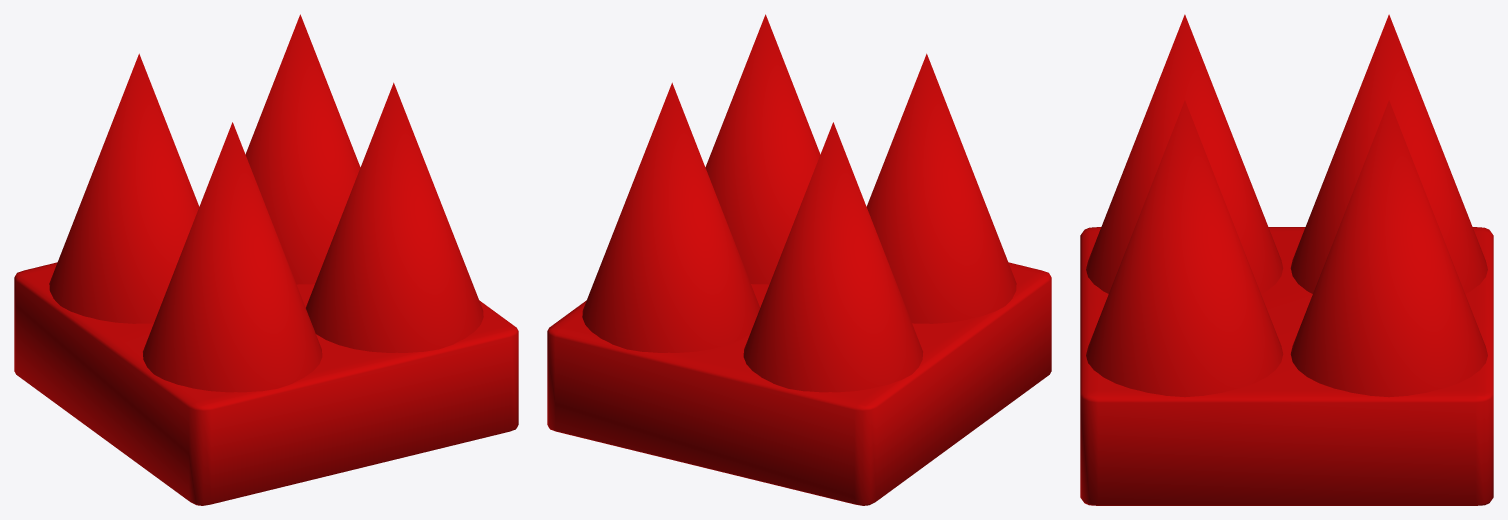
File: spikes.obj
3 renders of one model, left to right at view 1: azimuth 30°, elevation 25°; view 2: azimuth 150°, elevation 25°; view 3: azimuth 270°, elevation 25°, orthographic. The views are drawn at different scales.
Parts seen in each view (by area): view 1: Cube.002; view 2: Cube.002; view 3: Cube.002.
Part boxes in pixels (x1,y1,x2,y2): Cube.002: (14,14,518,505); Cube.002: (547,14,1051,505); Cube.002: (1080,14,1493,505).
Bounding box in the file's own units: 1.02 × 0.9921 × 1.02.
